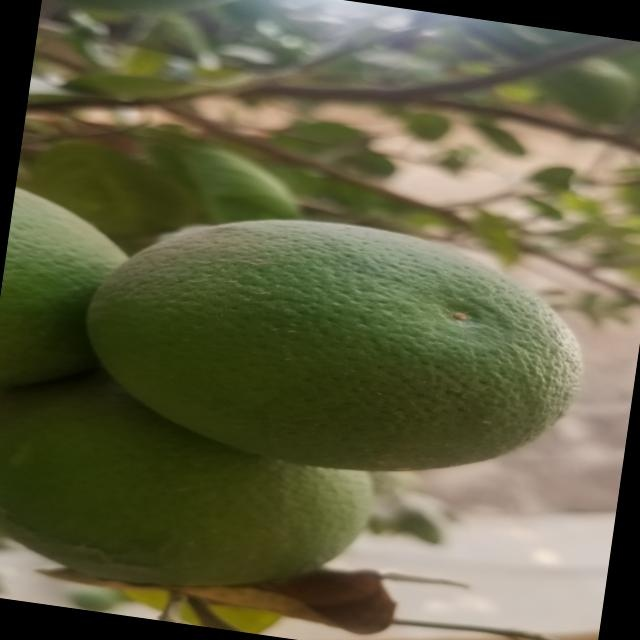agrume: (78, 193, 593, 495), (0, 369, 368, 610), (0, 184, 132, 406)
